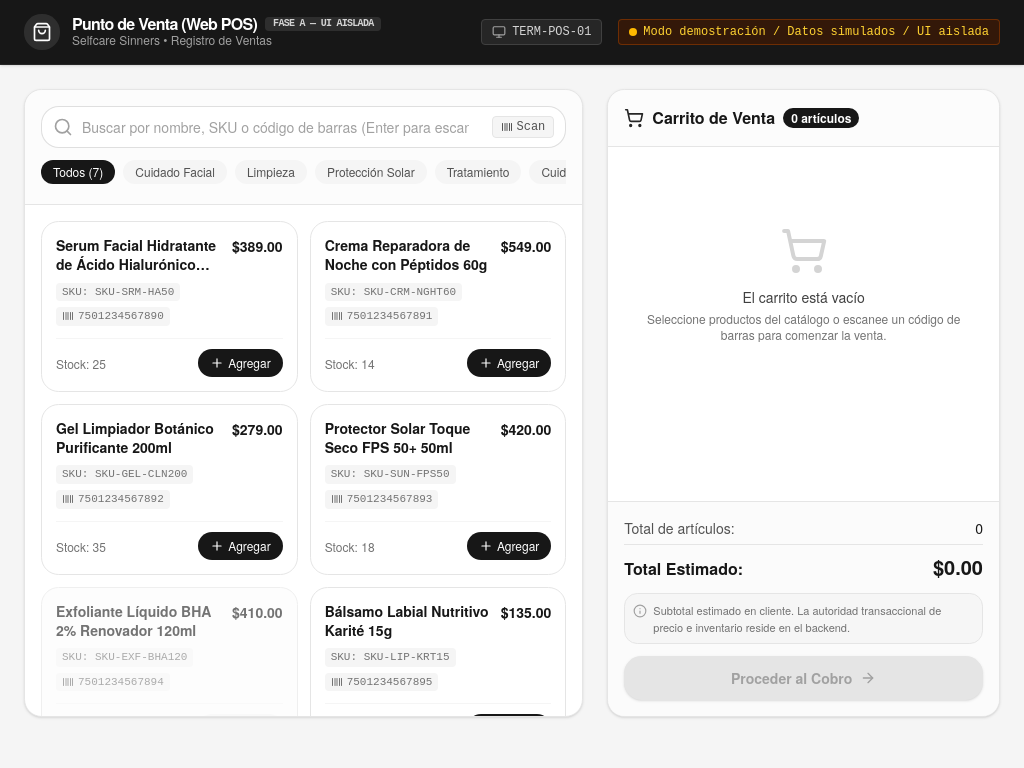
Test: CCP-43: Web POS Register UI (Isolated Wave - FASE A) › 2. Cart Operations & Money Precision › adds, increments, decrements, and removes items from cart with accurate money calculation
Note: Add unit1
Click the button "Agregar" next to "25".
click(240, 363)  # box [198,349,283,377]
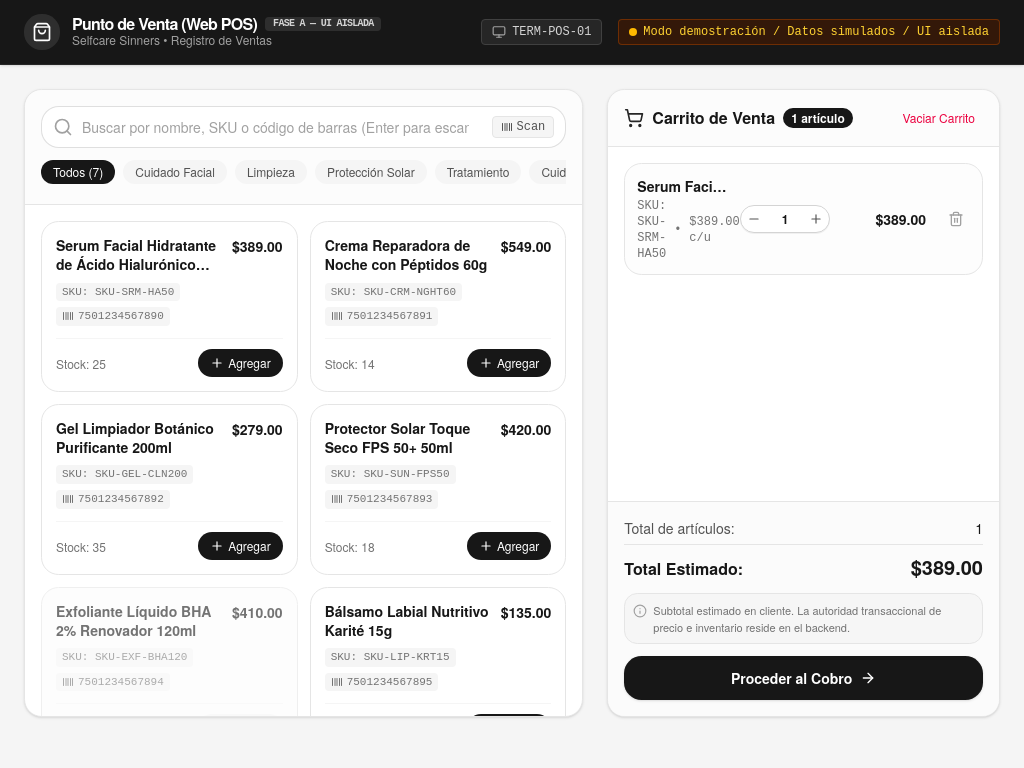
Result: the text with test id "cart-badge-total-items" reads "1 artículo" at [783,108,853,128]
Result: the text with test id "cart-summary-estimated-subtotal" reads "$389.00" at [911,552,983,581]
Note: Increment unit1
Click the button named "Aumentar cantidad de Serum Facial Hidratante de Ácido Hialur".
click(816, 219)  # box [803,206,829,232]
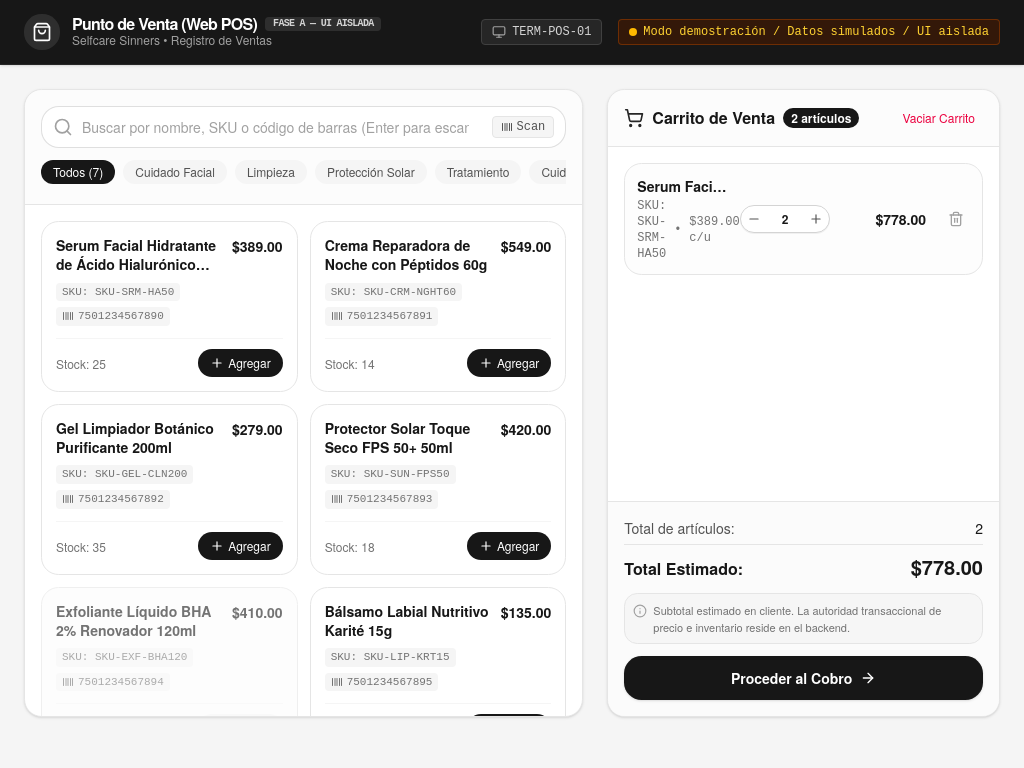
Result: the text with test id "cart-summary-items-count" reads "2" at [975,518,983,538]
Note: Decrement unit1
Click the button named "Disminuir cantidad de Serum Facial Hidratante de Ácido Hialu".
click(754, 219)  # box [741,206,767,232]
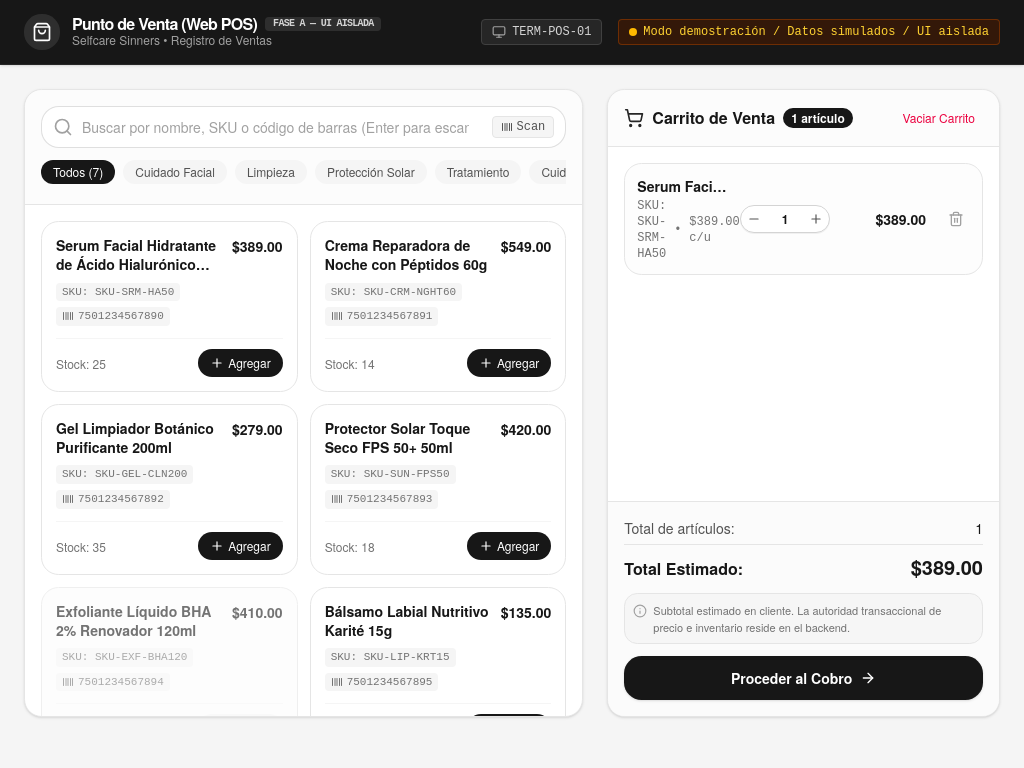
Note: Add unit2
Click the button "Agregar" next to "14".
click(509, 363)  # box [467,349,551,377]
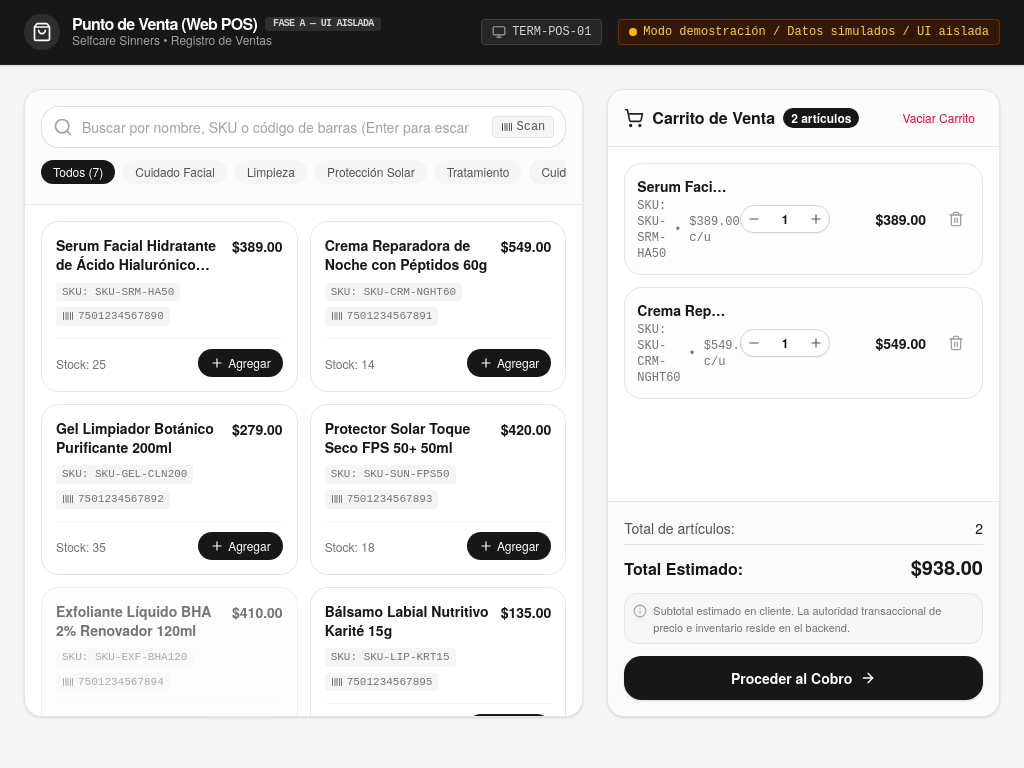
Result: the text with test id "cart-summary-items-count" reads "2" at [975,518,983,538]
Result: the text with test id "cart-summary-estimated-subtotal" reads "$938.00" at [911,552,983,581]
Note: Remove unit2 using trash button
Click the button named "Eliminar Crema Reparadora de Noche con Péptidos 60g del carr".
click(956, 343)  # box [942,329,970,357]
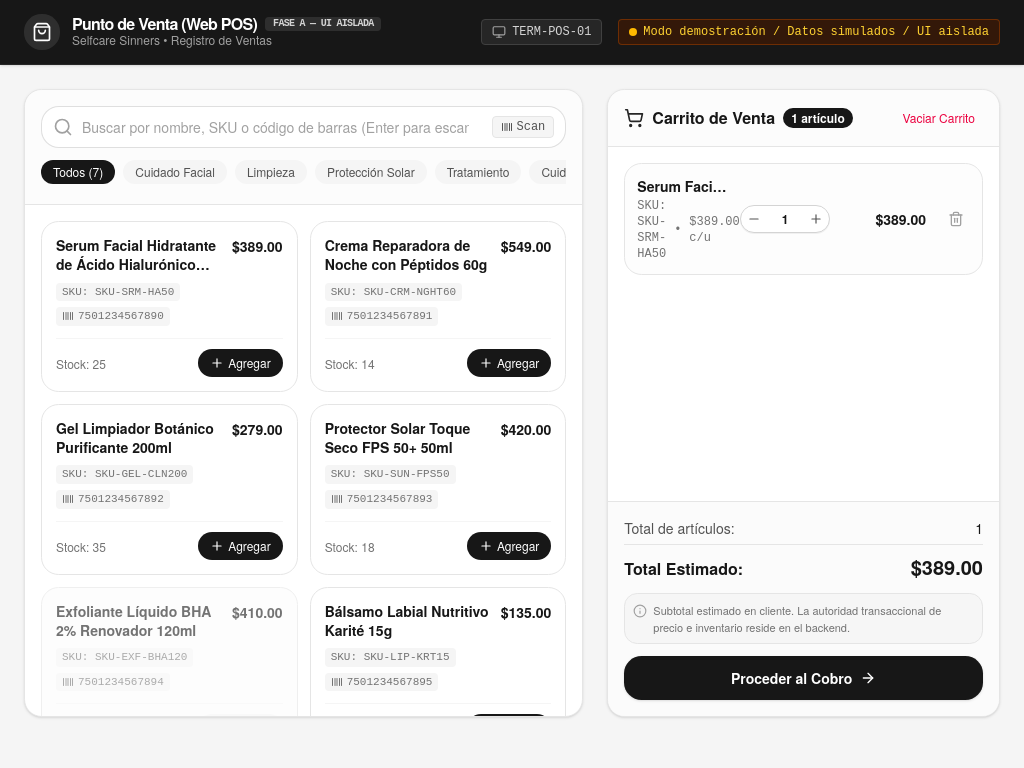
Result: the text with test id "cart-summary-items-count" reads "1" at [975,518,983,538]
Click the button named "Disminuir cantidad de Serum Facial Hidratante de Ácido Hialu".
click(754, 219)  # box [741,206,767,232]
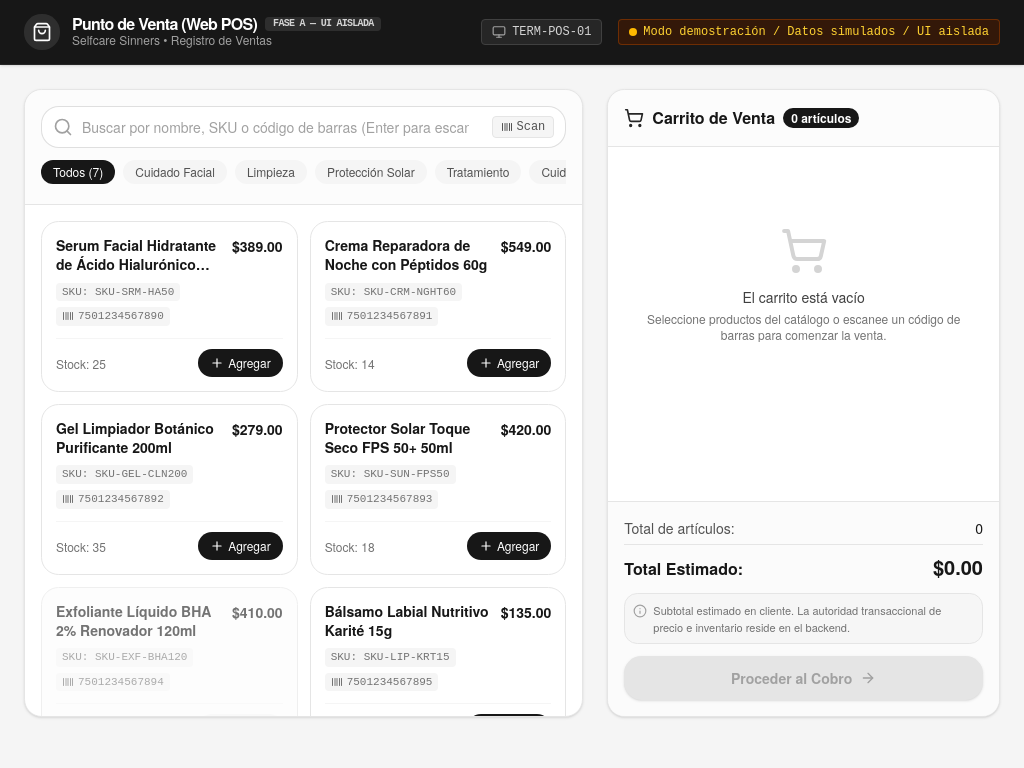
Result: the element with test id "pos-cart-empty-state" is shown at [647,227,960,343]
